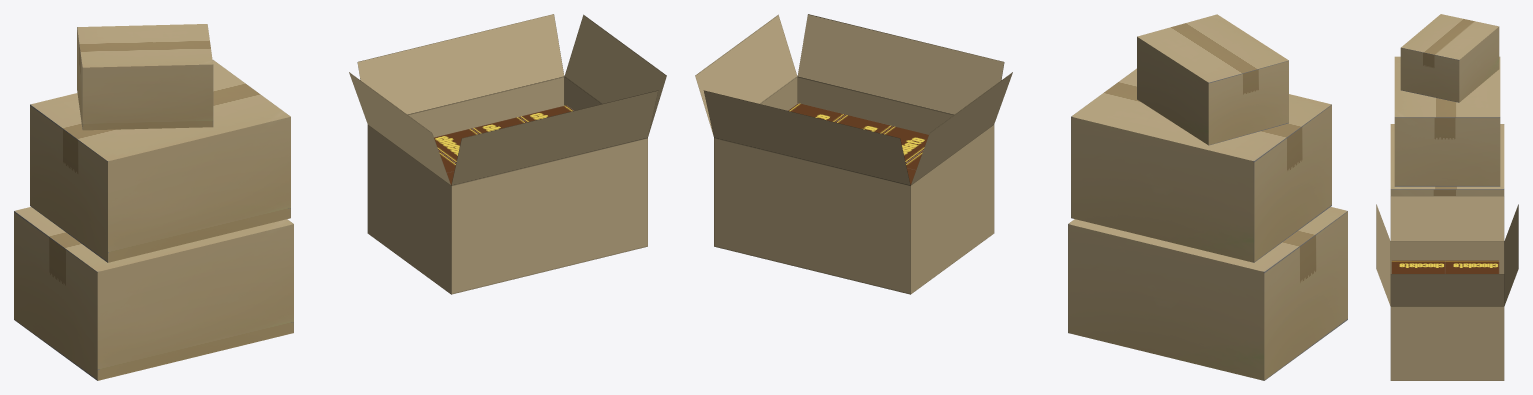
3 views of the same model, side by side, from view 1: azimuth 30°, elevation 25°; view 2: azimuth 150°, elevation 25°; view 3: azimuth 270°, elevation 25° (orthographic). The views are drawn at different scales.
Visible parts, largest first — view 1: box_1, box_open7; view 2: box_1, box_open7; view 3: box_open7, box_1.
Part boxes in pixels (x1,y1,x2,y2): box_1: [14, 24, 293, 380]; box_open7: [349, 14, 666, 294]; box_1: [1068, 14, 1347, 380]; box_open7: [695, 14, 1012, 294]; box_open7: [1376, 196, 1518, 380]; box_1: [1390, 14, 1504, 195].
Bounding box in the file's own units: 98.47 × 46.43 × 31.23.
Materials: 3 (3 with a texture image).
